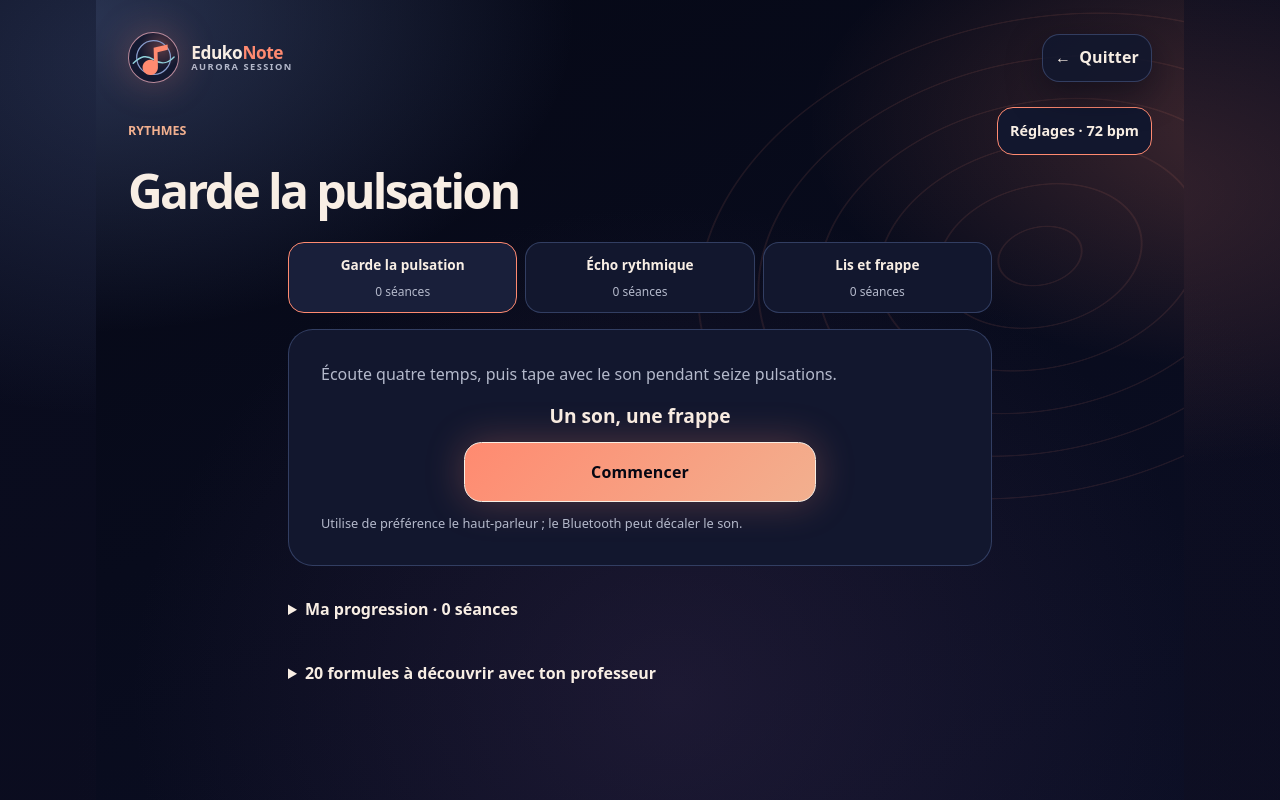
Test: three rhythm exercises › shows the score for reading and hides it before an echo response
Step 1. Click the button "Lis et frappe" → (877, 278), box [763,242,992,314]
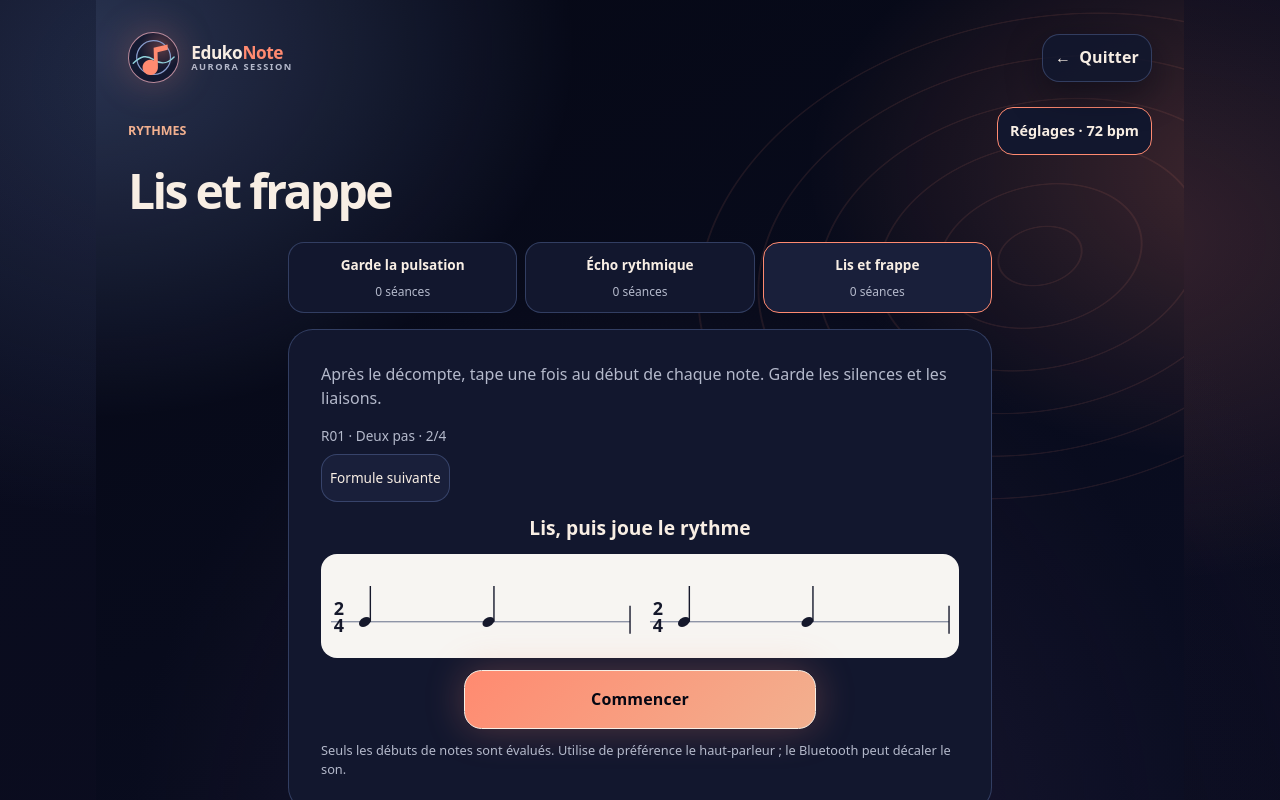
expect the picture with class "rhythm-notation" is shown: met, box [321,554,959,658]
Step 2. Click the button "Écho rythmique" → (640, 278), box [525,242,755,314]
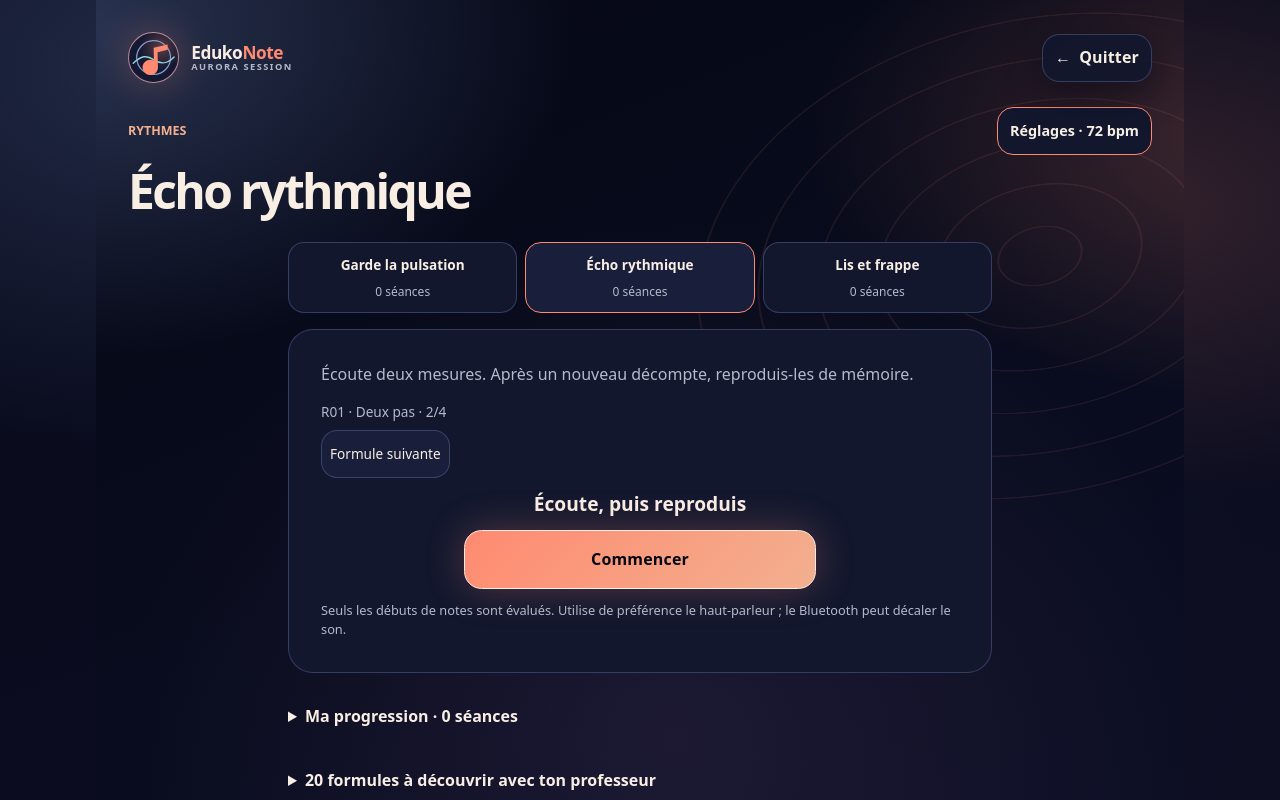
expect the element with class "rhythm-score-preview" is gone: met
